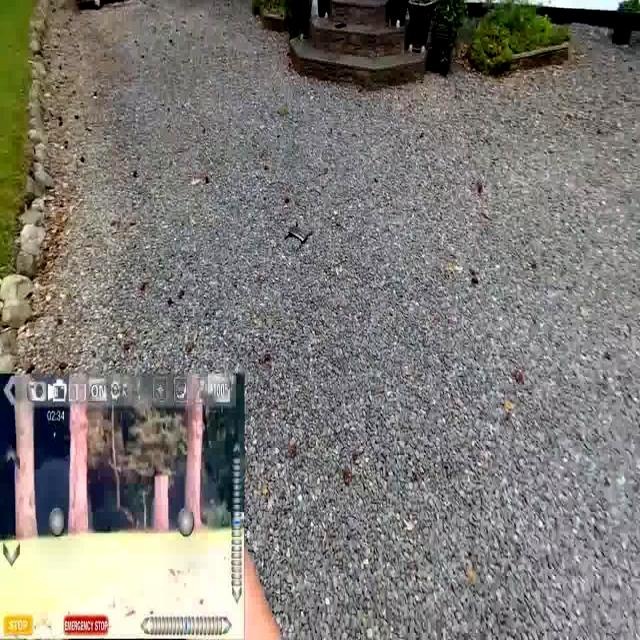drone: (284, 218, 312, 250)
